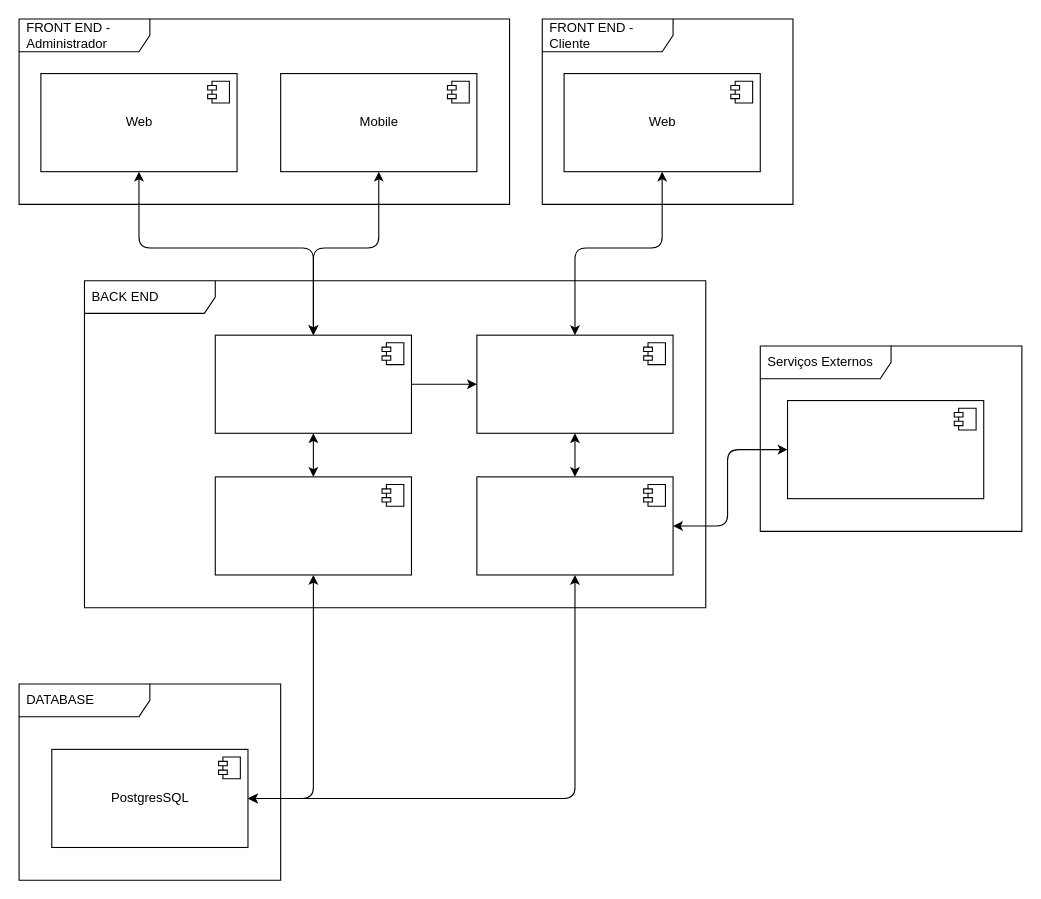
This 1041x899 diagram has some shape labels left out. The shapes that lost their labels are listed below. From the top down, each one's centre as x and y in pixels, then its label:
(x=312, y=383): Lógica de Negócio - Administrador
(x=574, y=383): Lógica de Negócio - Cliente
(x=885, y=449): Sistema de Pagamento
(x=312, y=525): API REST - Administrador
(x=574, y=525): API REST - Cliente
